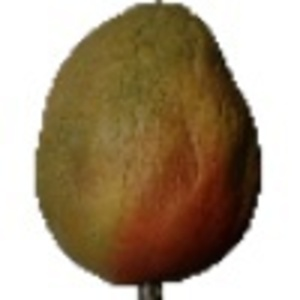mamão: (32, 5, 266, 285)
